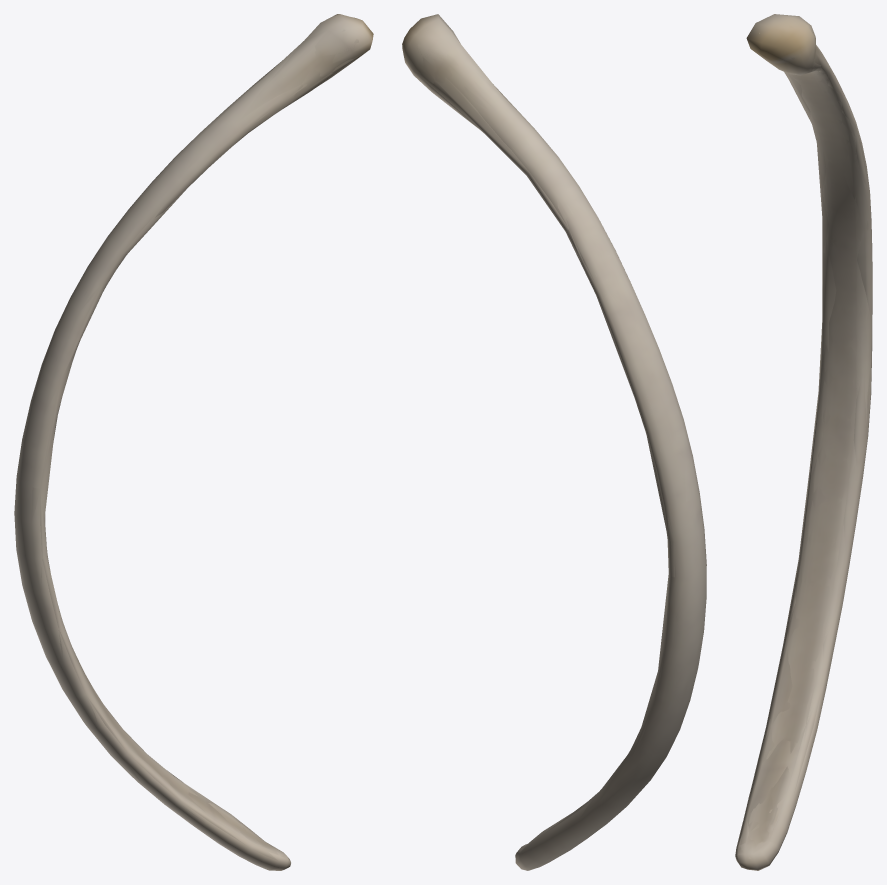
File: Rib R08.fbx
The picture shows the model from 3 angles, left to right: view 1: azimuth 30°, elevation 25°; view 2: azimuth 150°, elevation 25°; view 3: azimuth 270°, elevation 25°; orthographic projection. The views are drawn at different scales.
Visible parts, largest first — view 1: Rib R08, Rib R08 low, Rib R08 high; view 2: Rib R08, Rib R08 low, Rib R08 high; view 3: Rib R08 high, Rib R08, Rib R08 low.
Part boxes in pixels (x1,y1,x2,y2): Rib R08: (14, 14, 373, 870); Rib R08 low: (16, 14, 368, 869); Rib R08 high: (17, 29, 367, 867); Rib R08: (402, 14, 706, 870); Rib R08 low: (410, 18, 700, 862); Rib R08 high: (416, 24, 701, 860); Rib R08 high: (741, 25, 872, 869); Rib R08: (735, 14, 872, 870); Rib R08 low: (736, 15, 872, 867).
Bounding box in the file's own units: 7.32 × 18.14 × 2.52.
Materials: 1 (1 with a texture image).
